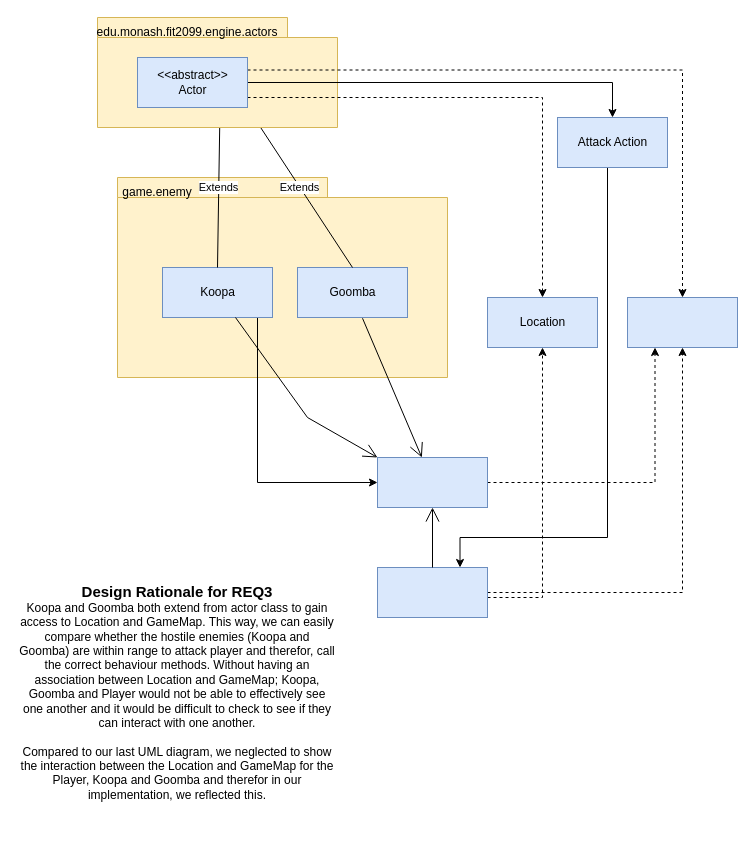
Some shapes in this 755 by 865 pixel diagram are drawn without their labels. The shapes that lost their labels are listed below. From the top down, each one's centre as x and y in pixels, then its label:
[682,322]: GameMap
[432,482]: Application
[432,592]: Player
